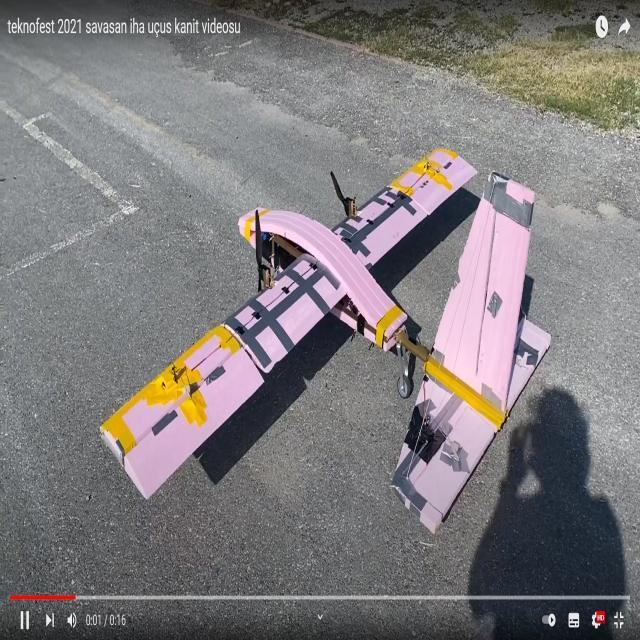UAV: (98, 143, 562, 512)
